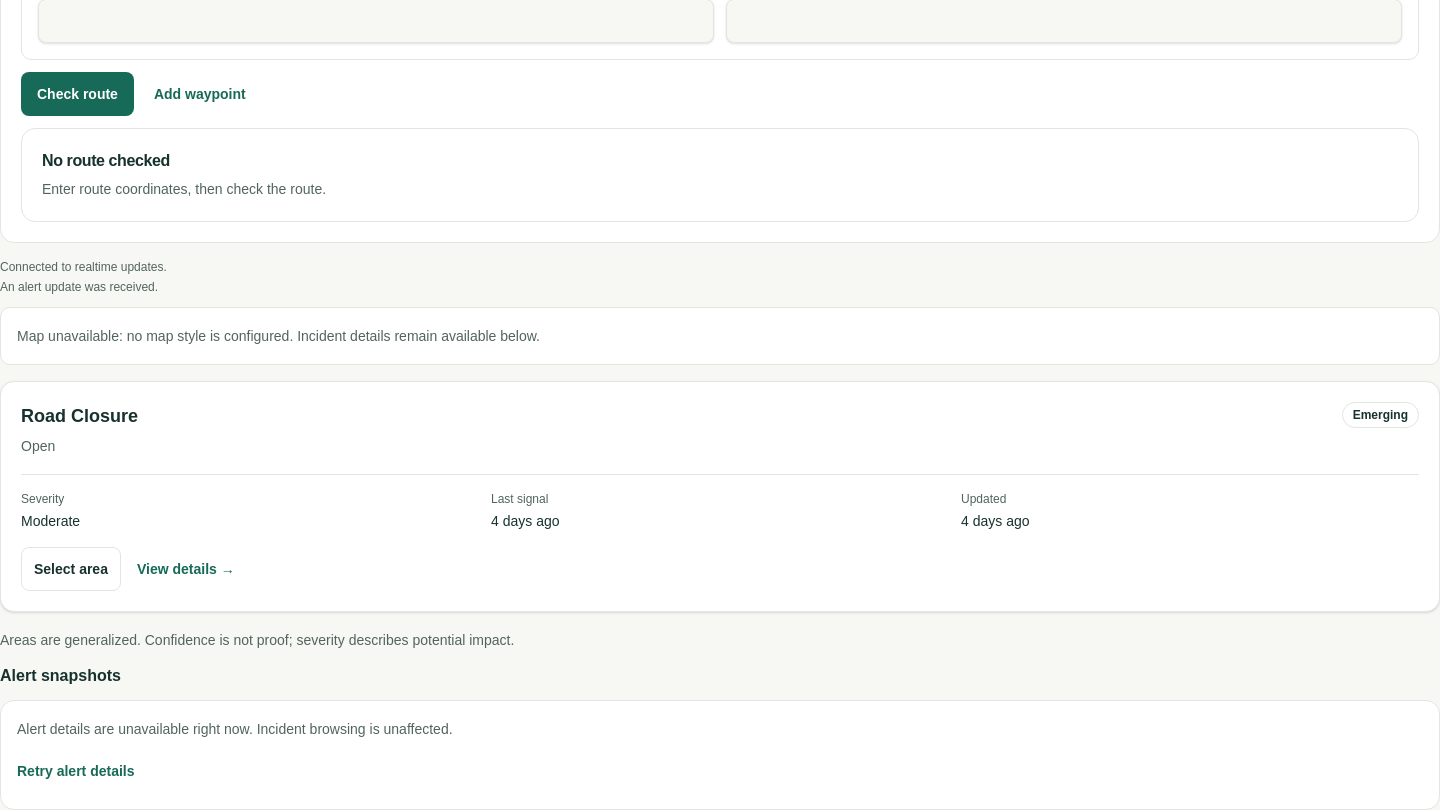
Scenario: IncidentMapExperience › loads alert snapshots from the API, not the raw SSE event, and retries failures
The width and height of the screenshot is (1440, 810).
(page scrolled)
Expected: the text "Alert details are unavailable" is shown, [17,721,453,737]
Expected: the heading "Road Closure" is shown, [21,402,138,430]
Click the button "Retry alert details". click: (76, 771)
box: [17,749,134,793]
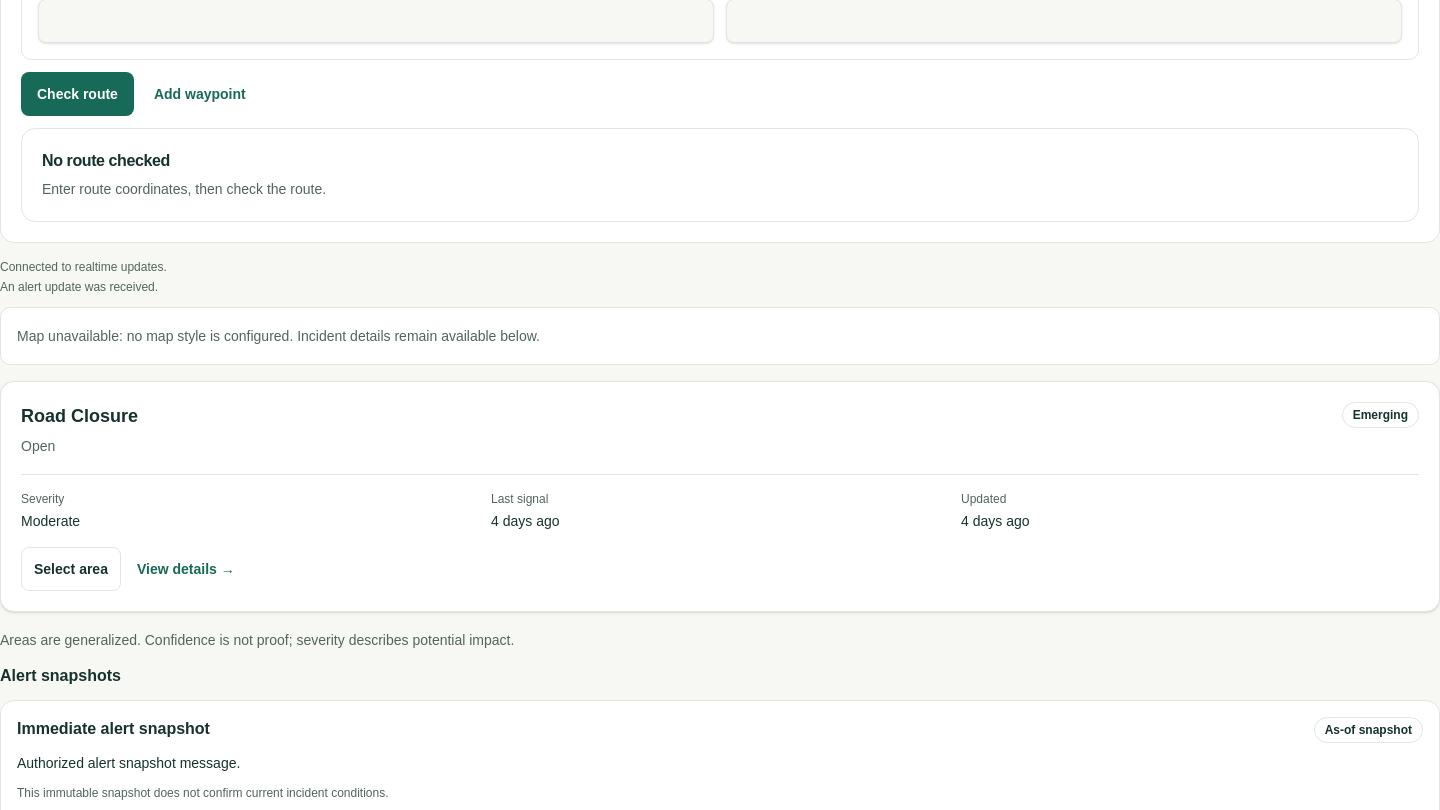
Now the text "does not confirm current incident conditions" is shown, box [17,786,388,800]
Now the text "Authorized alert snapshot message." is shown once, box [17,755,240,771]
